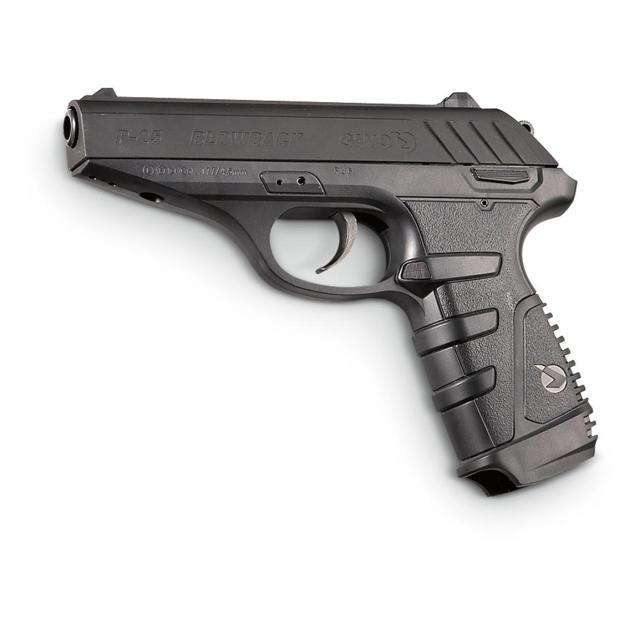Pistol: (49, 69, 628, 532)
